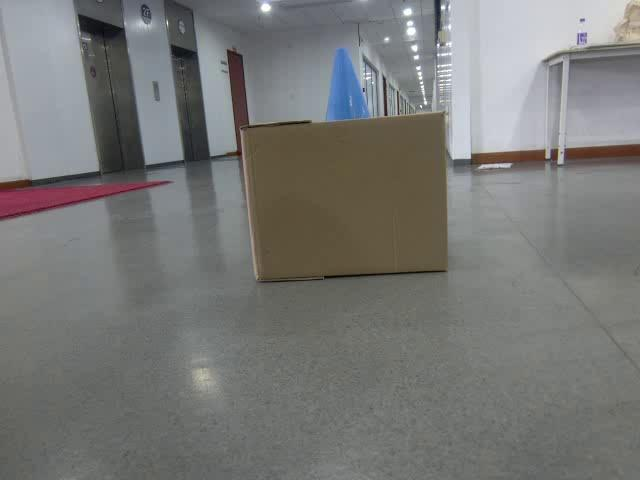blue_barrel: (324, 45, 375, 123)
